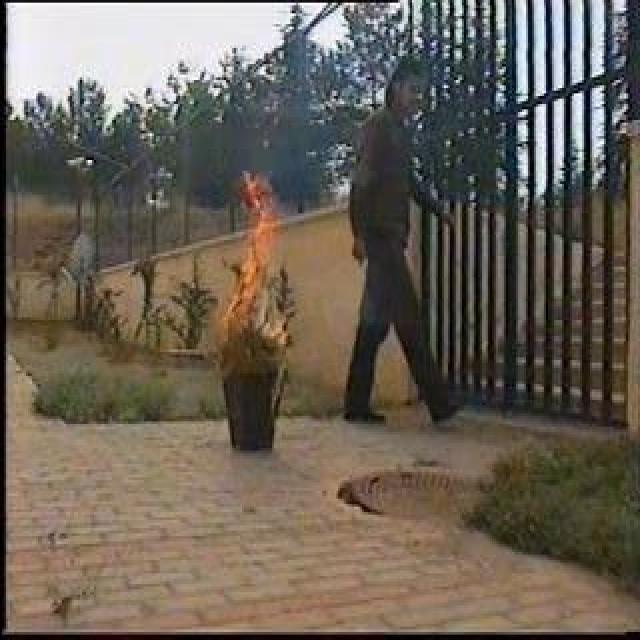fire: (223, 170, 273, 347)
